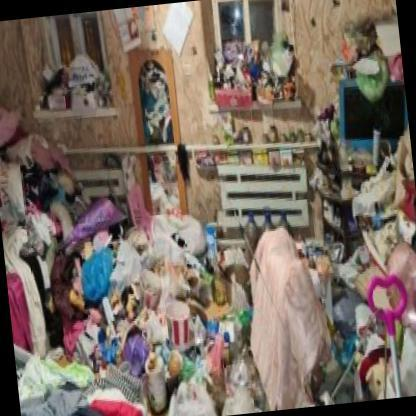Garbage: (62, 226, 198, 346), (113, 294, 207, 416), (45, 251, 124, 329), (112, 241, 179, 326), (167, 238, 216, 312)
